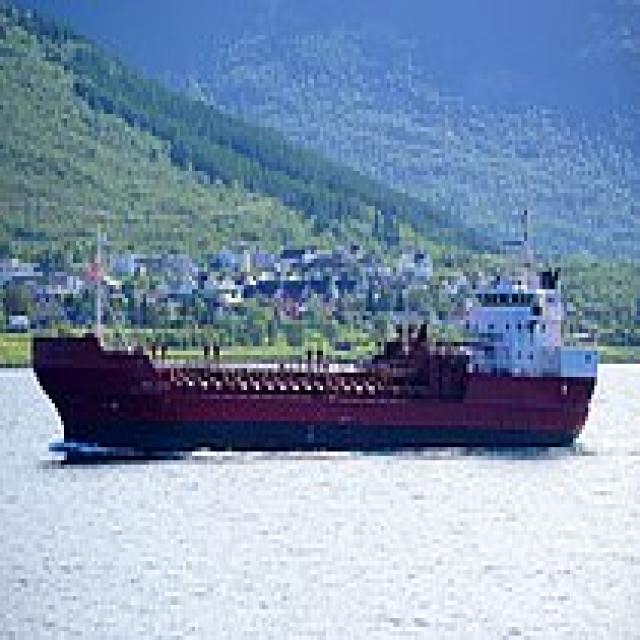Tanker: (24, 202, 604, 452)
